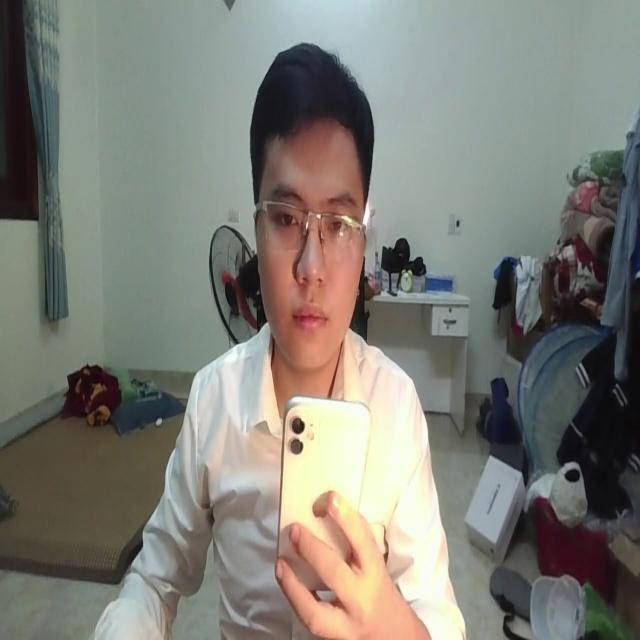phone: (274, 388, 365, 589)
student: (89, 40, 463, 640)
